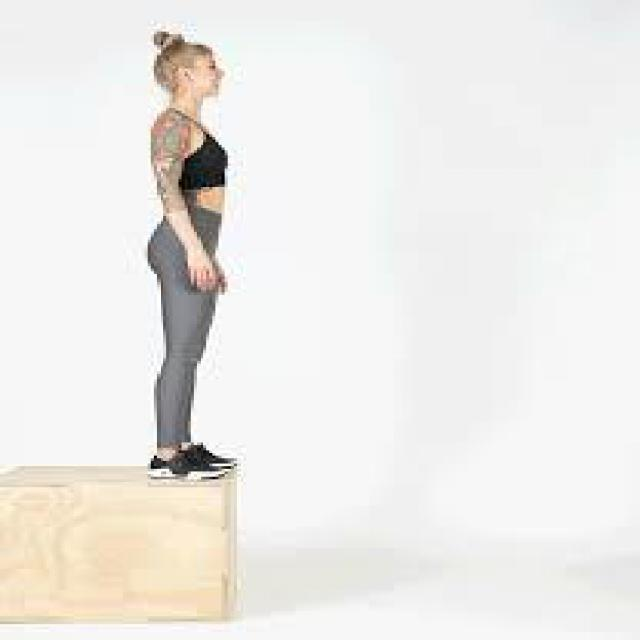Box: (0, 450, 253, 638)
